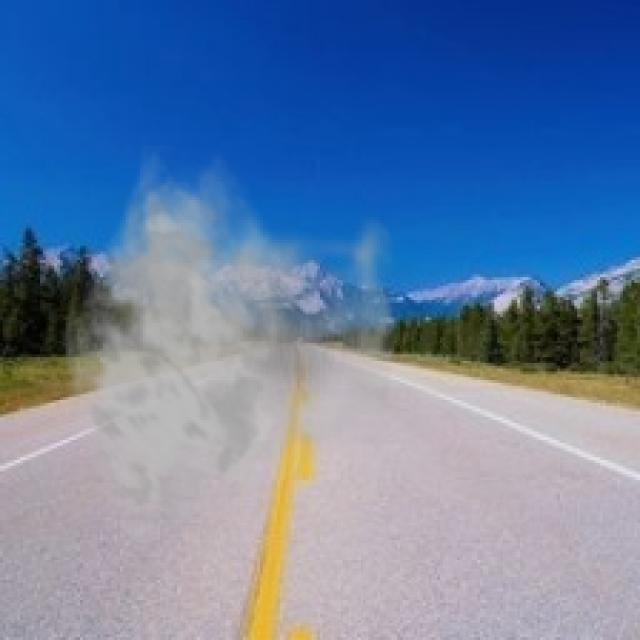Smoke: (62, 145, 428, 546)
